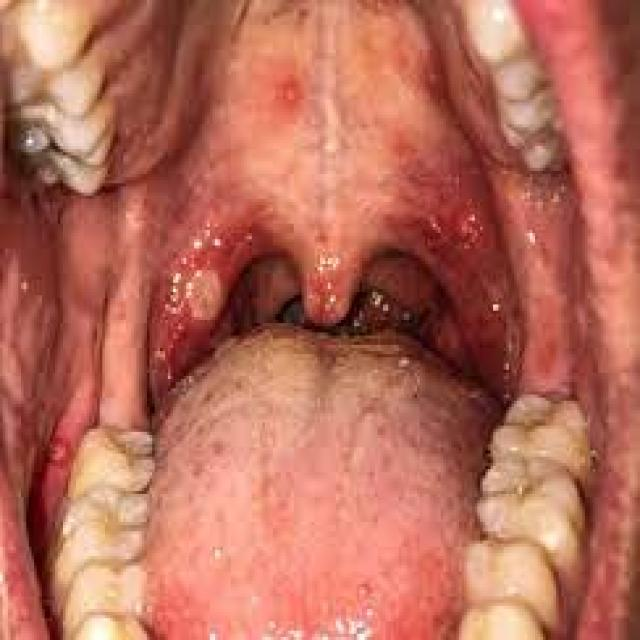processing_area: (0, 0, 637, 637), (167, 243, 241, 344)
ulcer-detection: (260, 49, 334, 115)
